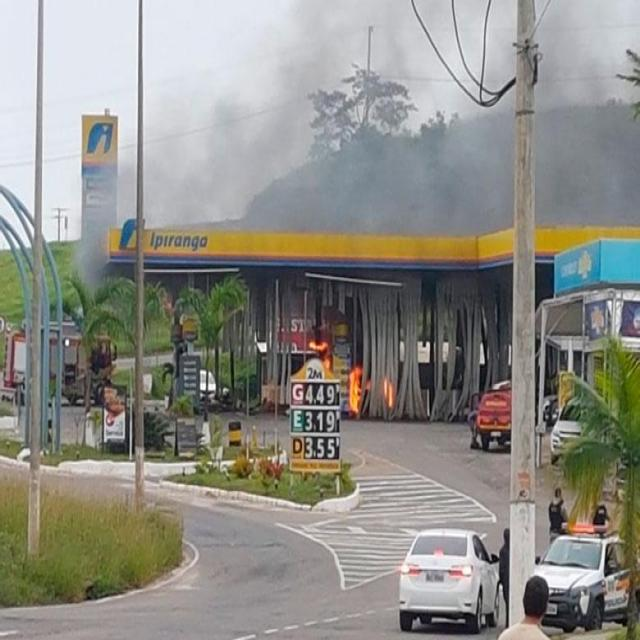Fire: (344, 364, 366, 414)
Smoke: (216, 111, 640, 233)
